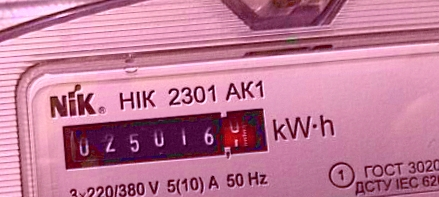0: (151, 125, 167, 149), (76, 135, 91, 158), (227, 114, 240, 135)
1: (176, 122, 189, 148), (231, 137, 240, 148)
2: (102, 130, 117, 154)
5: (127, 131, 140, 153)
6: (200, 123, 216, 149)
screen: (51, 98, 278, 177)
